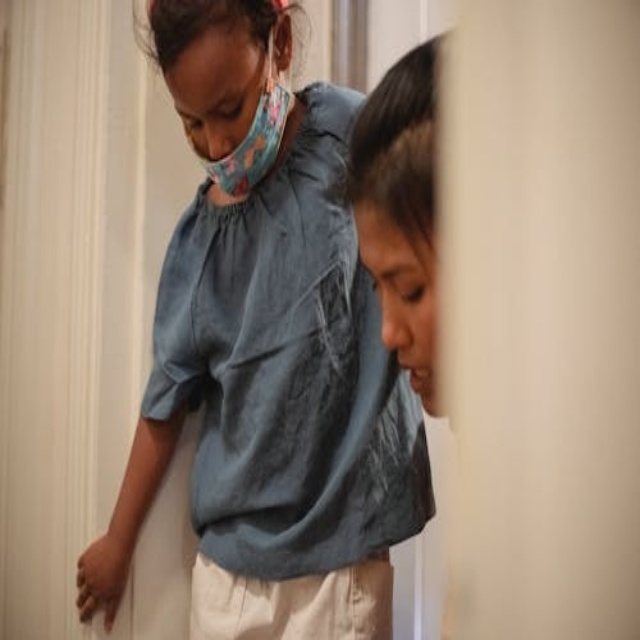Mascara: (199, 30, 291, 198)
Sin_gafas: (173, 67, 252, 133), (355, 252, 430, 313)
Sin_guantes: (74, 529, 131, 630)
Sin_mascara: (390, 346, 439, 421)
